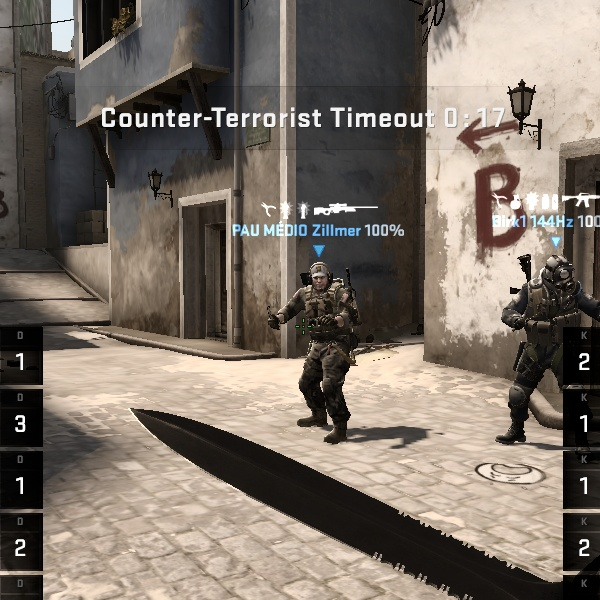ct_body: (488, 250, 600, 438)
ct_head: (529, 248, 581, 303), (303, 262, 338, 300)
t_body: (278, 262, 373, 441)
